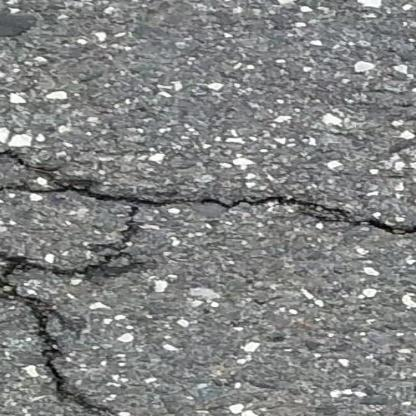Cracks: (0, 143, 416, 246), (0, 275, 161, 416), (0, 170, 144, 273)
